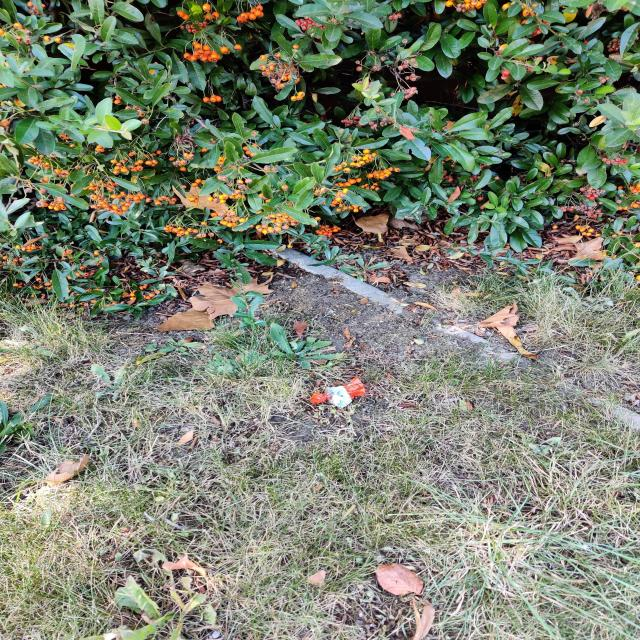litter: (311, 376, 366, 408)
